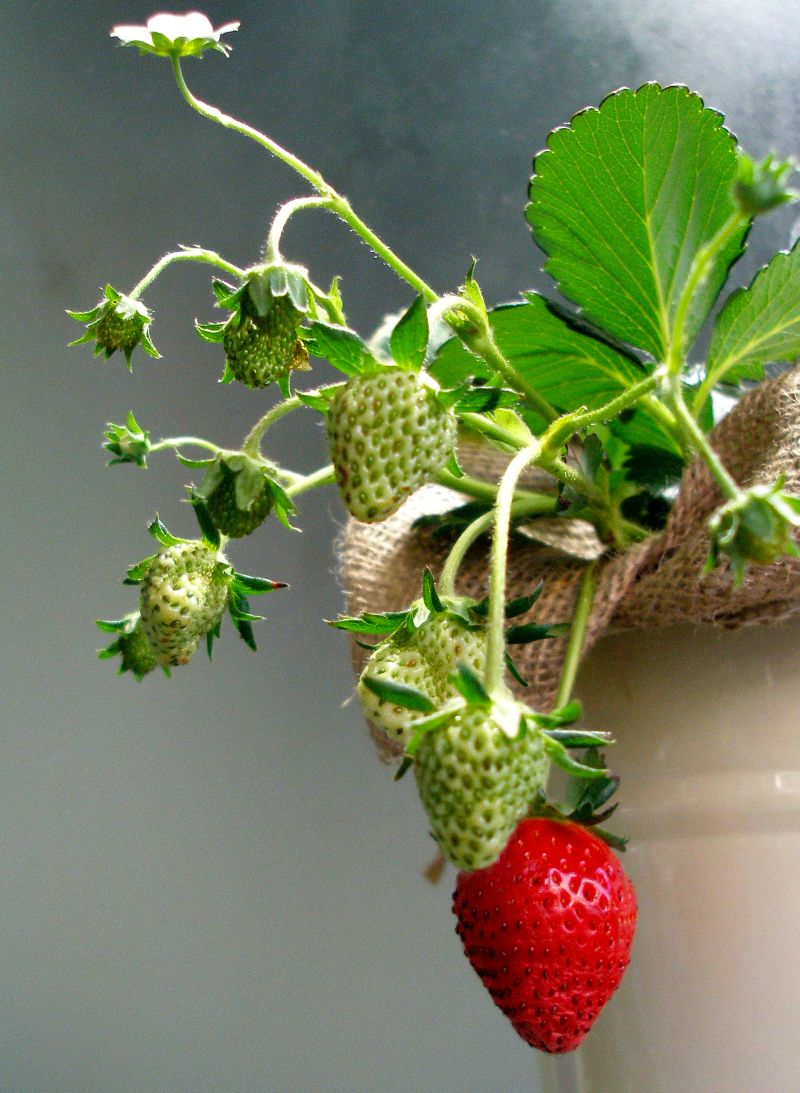ripe_strawberry: (445, 805, 641, 1058)
unripe_strawberry: (407, 690, 554, 875), (322, 363, 462, 528), (354, 637, 461, 764), (130, 532, 241, 652), (400, 582, 513, 689), (198, 451, 286, 540), (234, 258, 318, 339), (218, 324, 303, 392), (84, 289, 157, 360)
